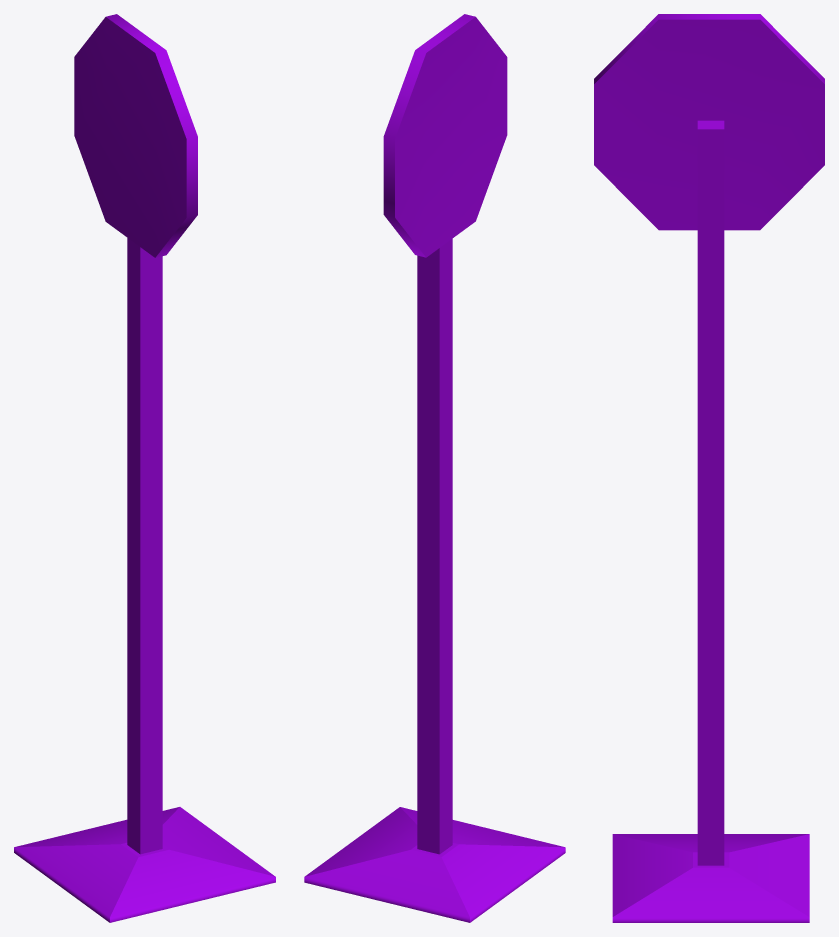
The model's file is Rod_Sign_01.fbx.
The picture shows the model from 3 angles, left to right: view 1: azimuth 30°, elevation 25°; view 2: azimuth 150°, elevation 25°; view 3: azimuth 270°, elevation 25°; orthographic projection. The views are drawn at different scales.
Parts seen in each view (by area): view 1: Rod_Sign_01; view 2: Rod_Sign_01; view 3: Rod_Sign_01.
Part boxes in pixels (box(x1,y1,x2,y2)): Rod_Sign_01: box(14, 14, 275, 922); Rod_Sign_01: box(304, 14, 565, 922); Rod_Sign_01: box(594, 14, 824, 922).
Size of the model in its own units: 8.55 by 41.19 by 10.02.
